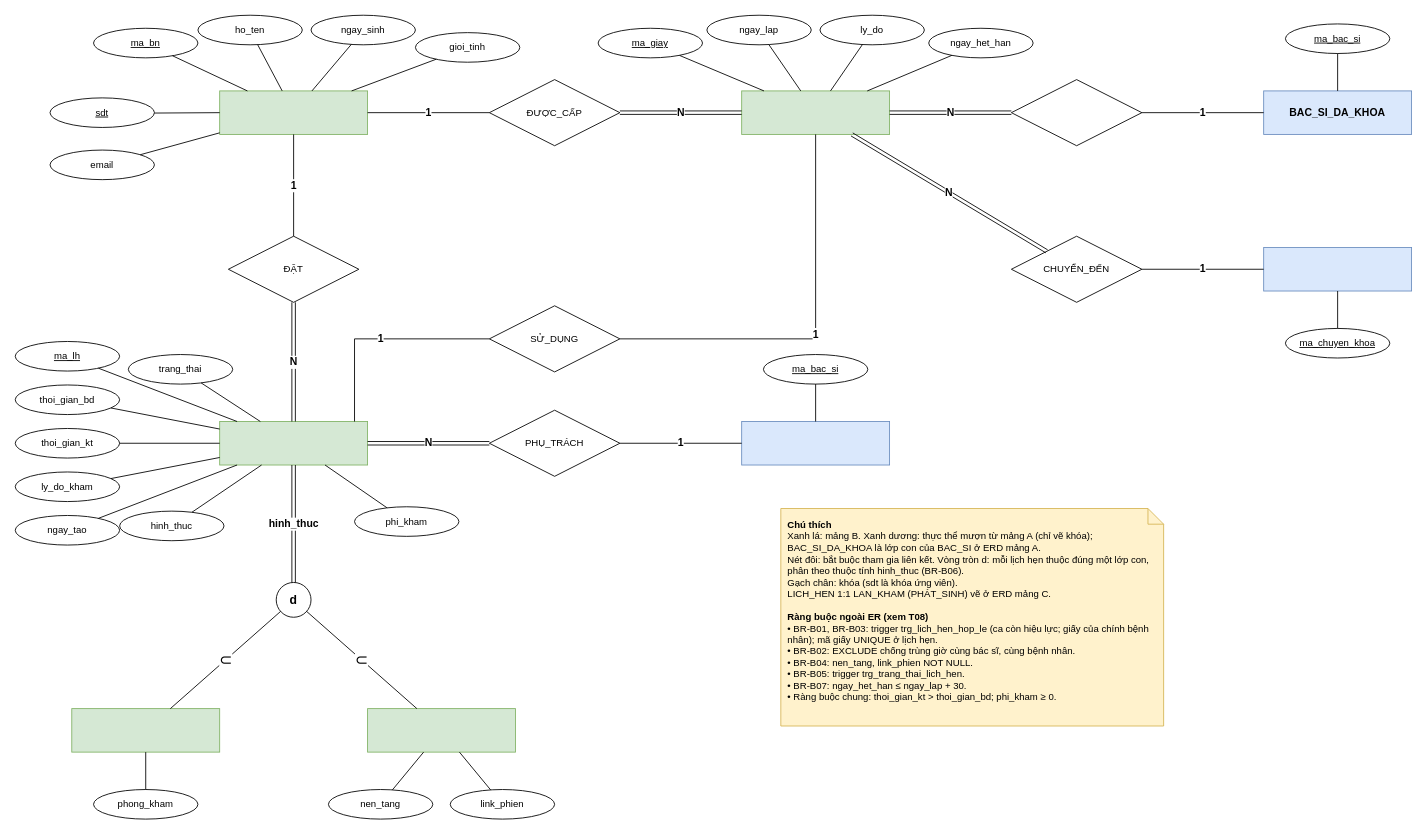
The diagram is 1427 pixels wide and 834 high, and some of its shapes have lost their labels. The box of each missing label's shape, as (x1, y1, x2, y2) in pixels:
BAC_SI: (741, 421, 890, 465)
BENH_NHAN: (219, 90, 368, 134)
CHUYEN_KHOA: (1263, 247, 1412, 291)
GIAY_CHUYEN_KHOA: (741, 90, 890, 134)
KHAM_TRUC_TIEP: (71, 708, 220, 752)
LICH_HEN: (219, 421, 368, 465)
LẬP_GIẤY: (1011, 79, 1142, 146)
TU_VAN_TU_XA: (367, 708, 515, 752)
